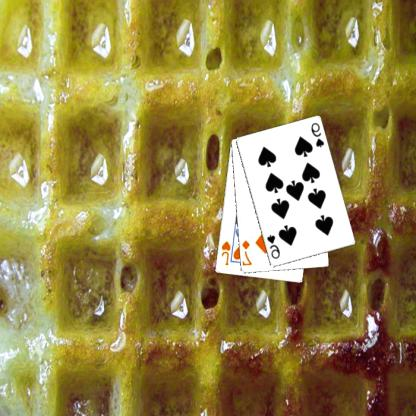7D: (242, 238, 254, 267)
9S: (310, 120, 327, 149), (266, 232, 283, 260)
JH: (220, 239, 233, 267)
